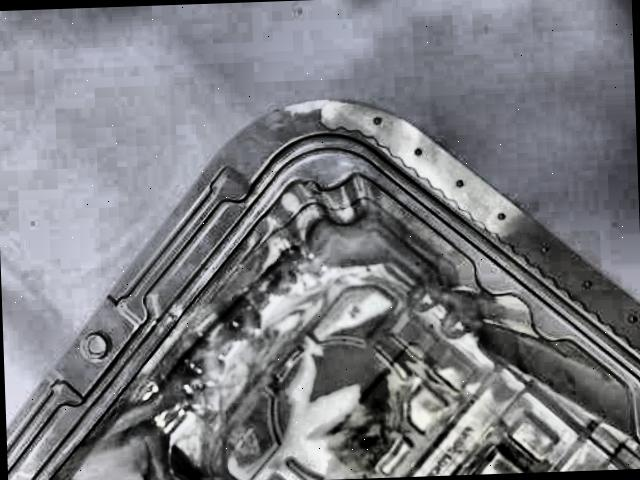Plastic: (0, 82, 640, 480)
